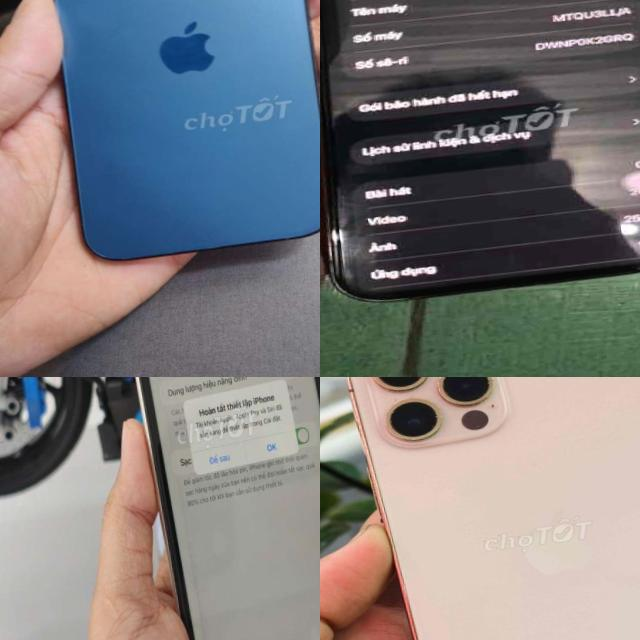gen_11: (138, 377, 320, 640)
gen_12_13: (33, 0, 320, 271), (348, 377, 640, 640)
gen_15: (320, 0, 640, 329)
